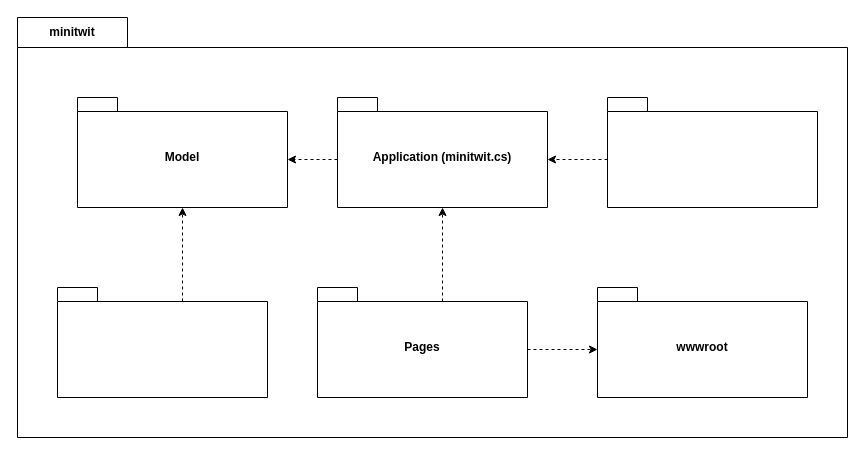
The diagram is 865 pixels wide and 455 high, and some of its shapes have lost their labels. Each missing label, with the box of its shape:
Api: (606, 96, 818, 208)
Migrations: (56, 286, 268, 398)
